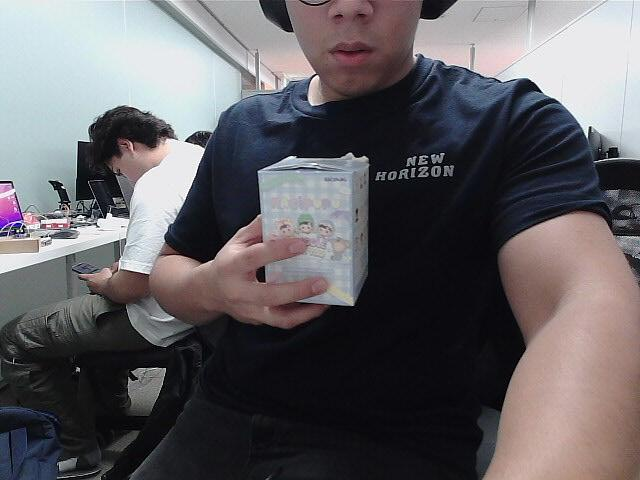Blind_box: (246, 152, 382, 316)
